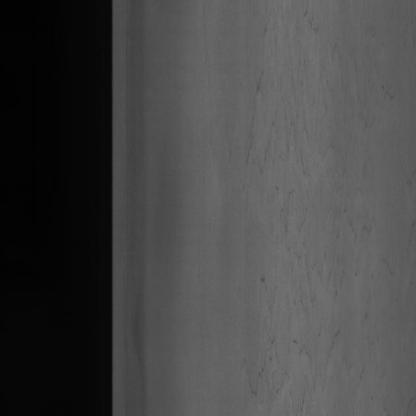silk_spot: (235, 33, 352, 375)
